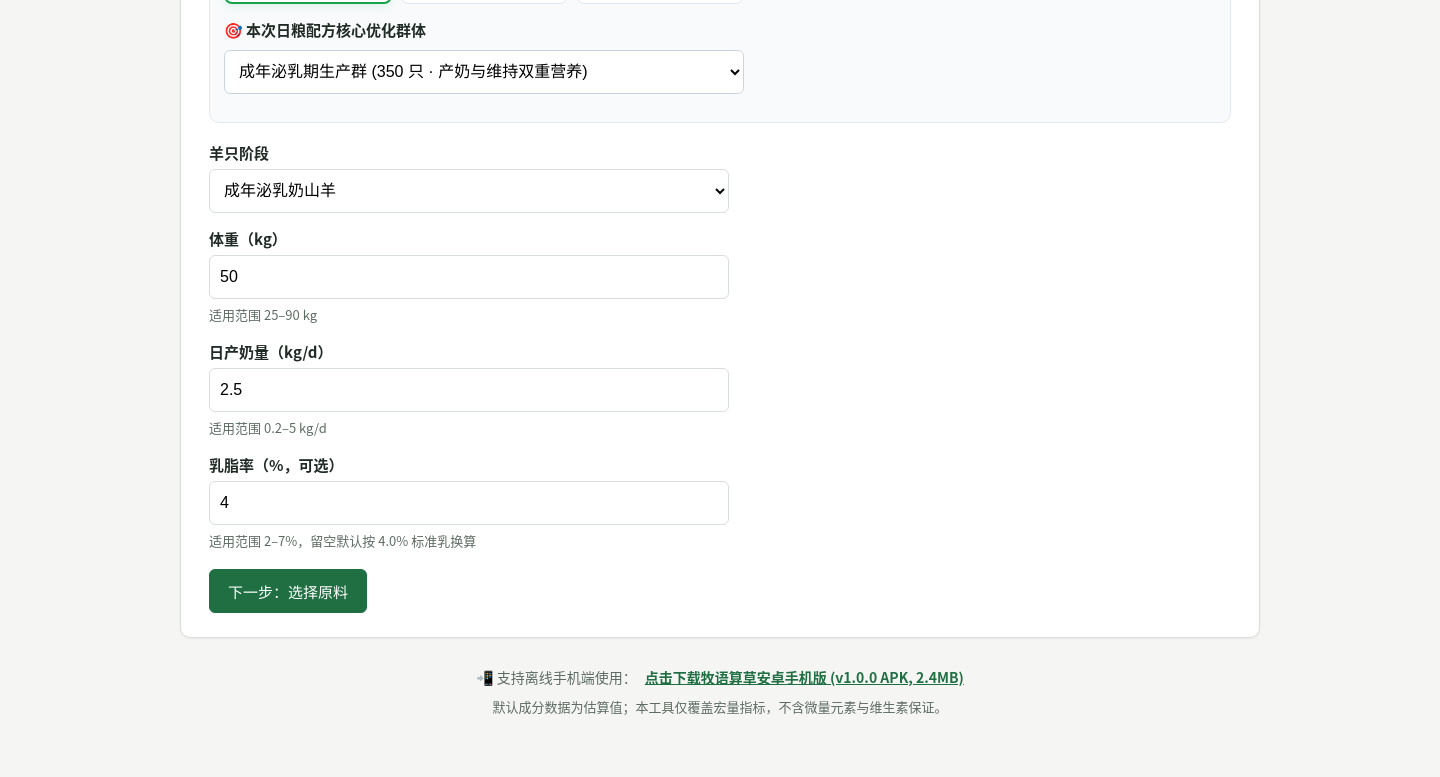
Test: App 三步流程 › 推荐模式中取消的原料不会被后台重新加入
(page scrolled)
Click the button "下一步：选择原料" at (288, 591), box x1=209 y1=569 x2=367 y2=613
(page scrolled)
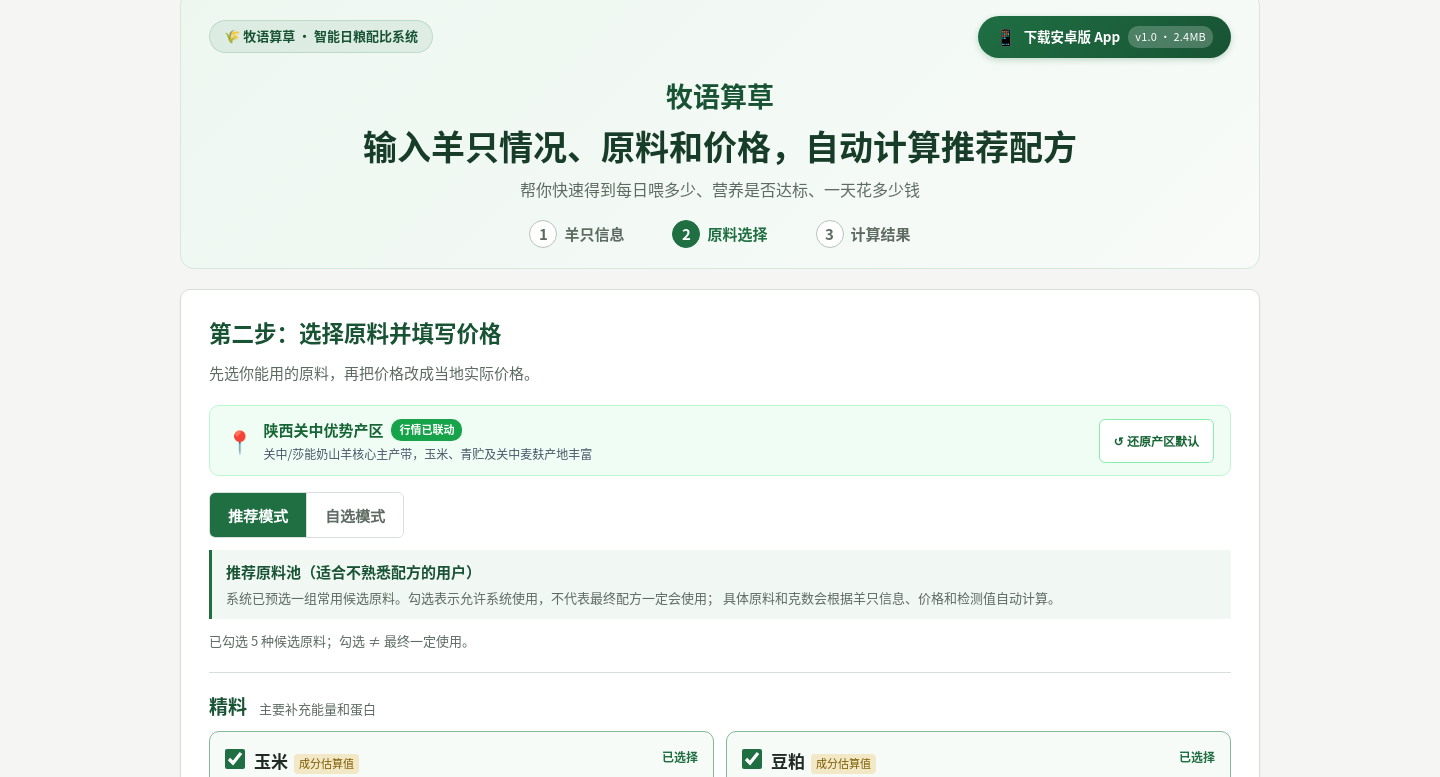
Result: the heading "第二步：选择原料并填写价格" is shown at x1=209 y1=316 x2=502 y2=348
Click the checkbox named "玉米 用于配方" at (235, 759), box x1=225 y1=749 x2=245 y2=769
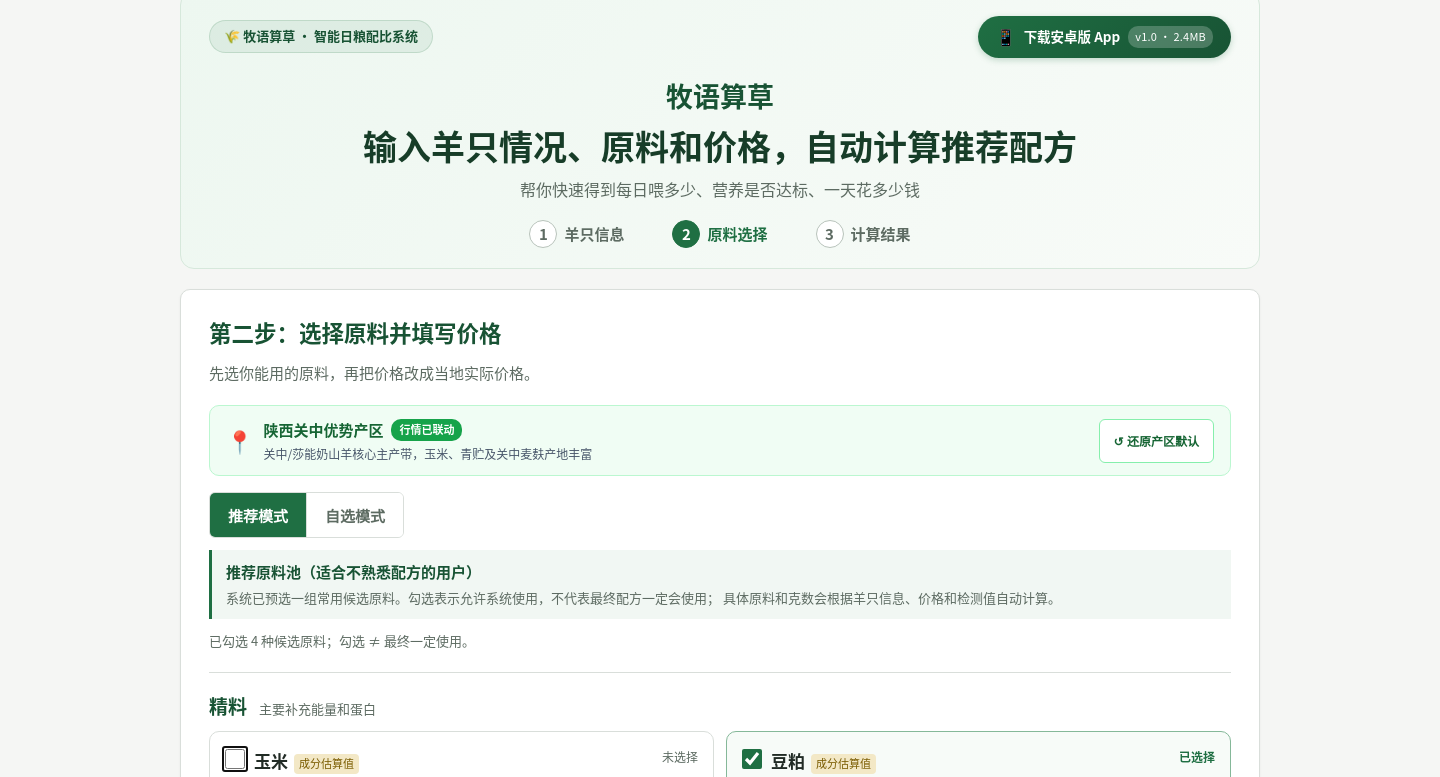
Click the radio button labelled "自选模式" at (354, 515), box x1=306 y1=493 x2=403 y2=537
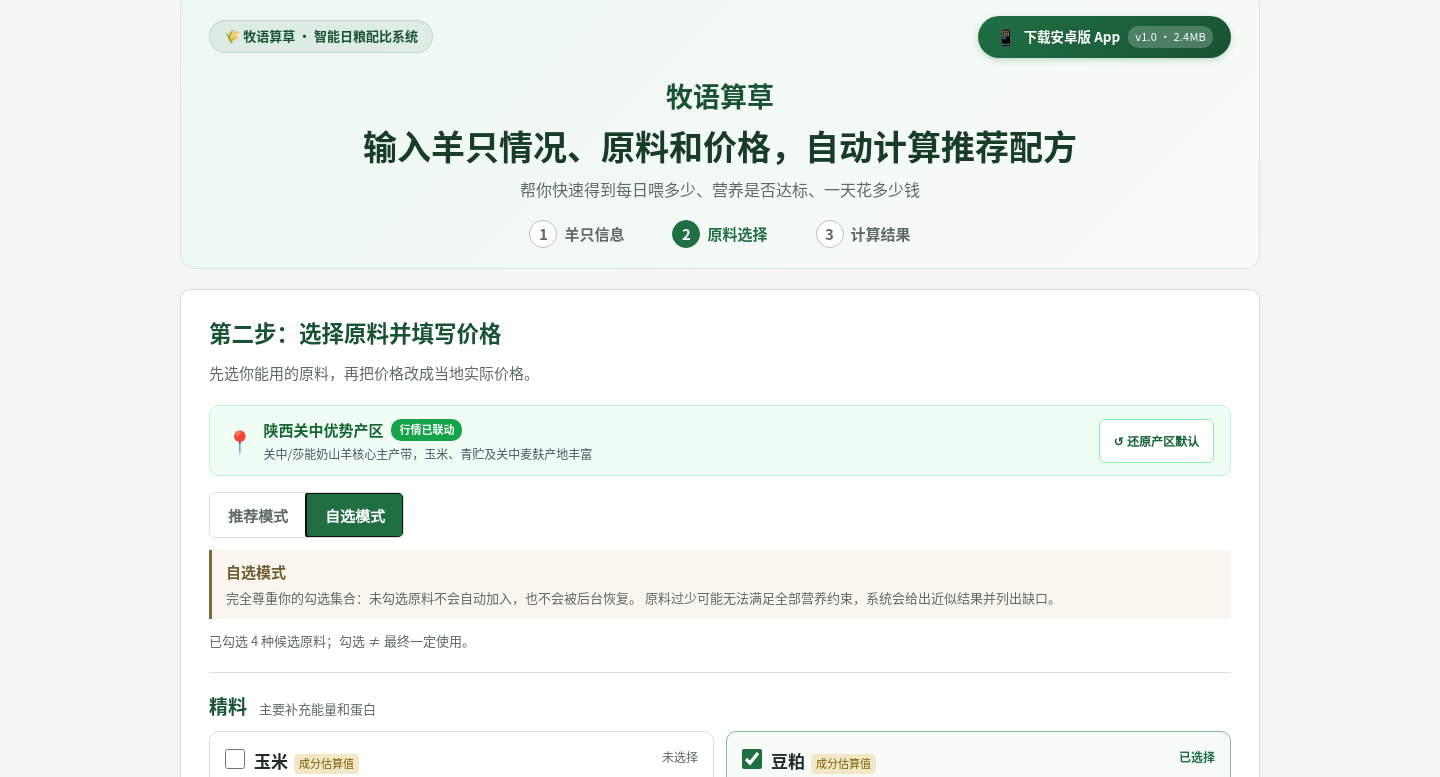
Click the radio button labelled "推荐模式" at (258, 515), box x1=210 y1=493 x2=306 y2=537
(page scrolled)
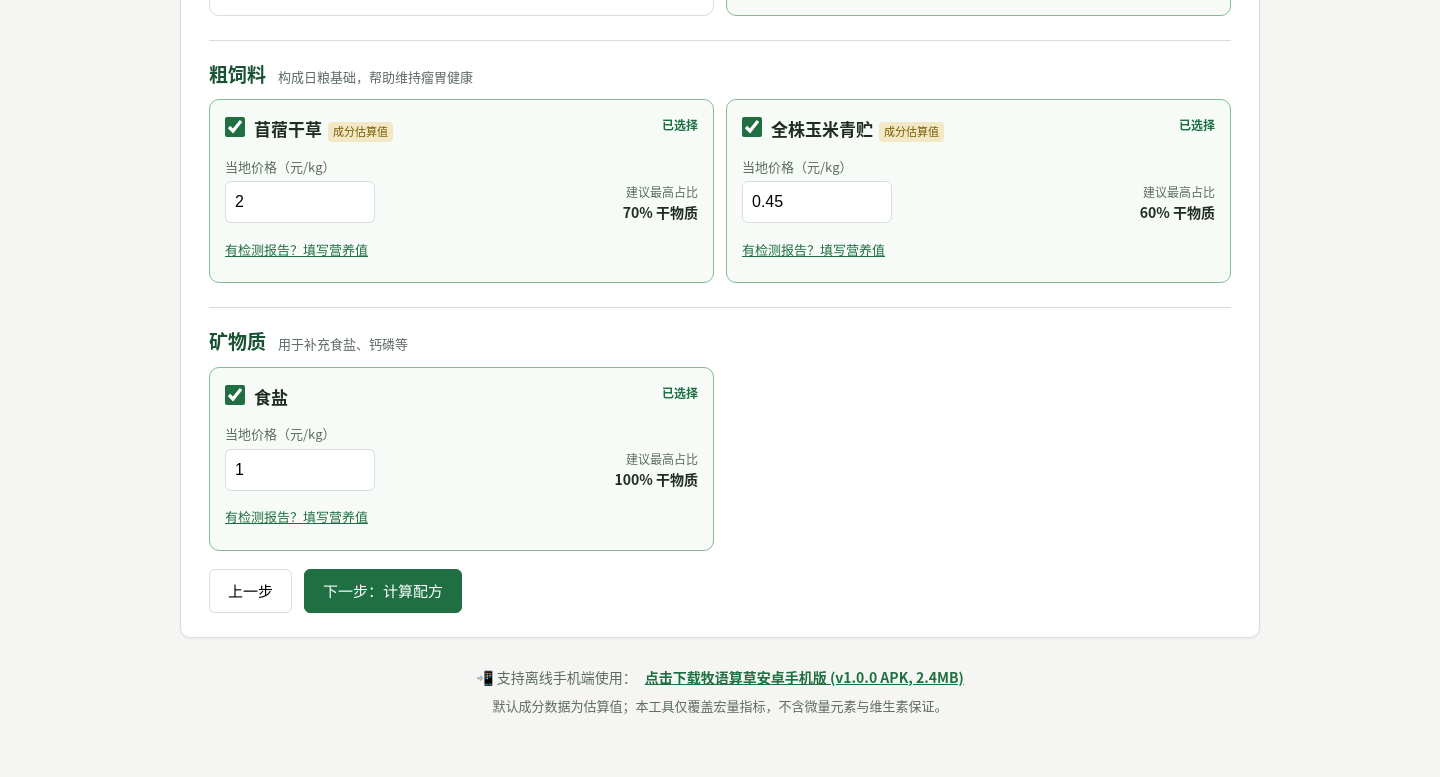
Click the button "下一步：计算配方" at (383, 591), box x1=304 y1=569 x2=462 y2=613
(page scrolled)
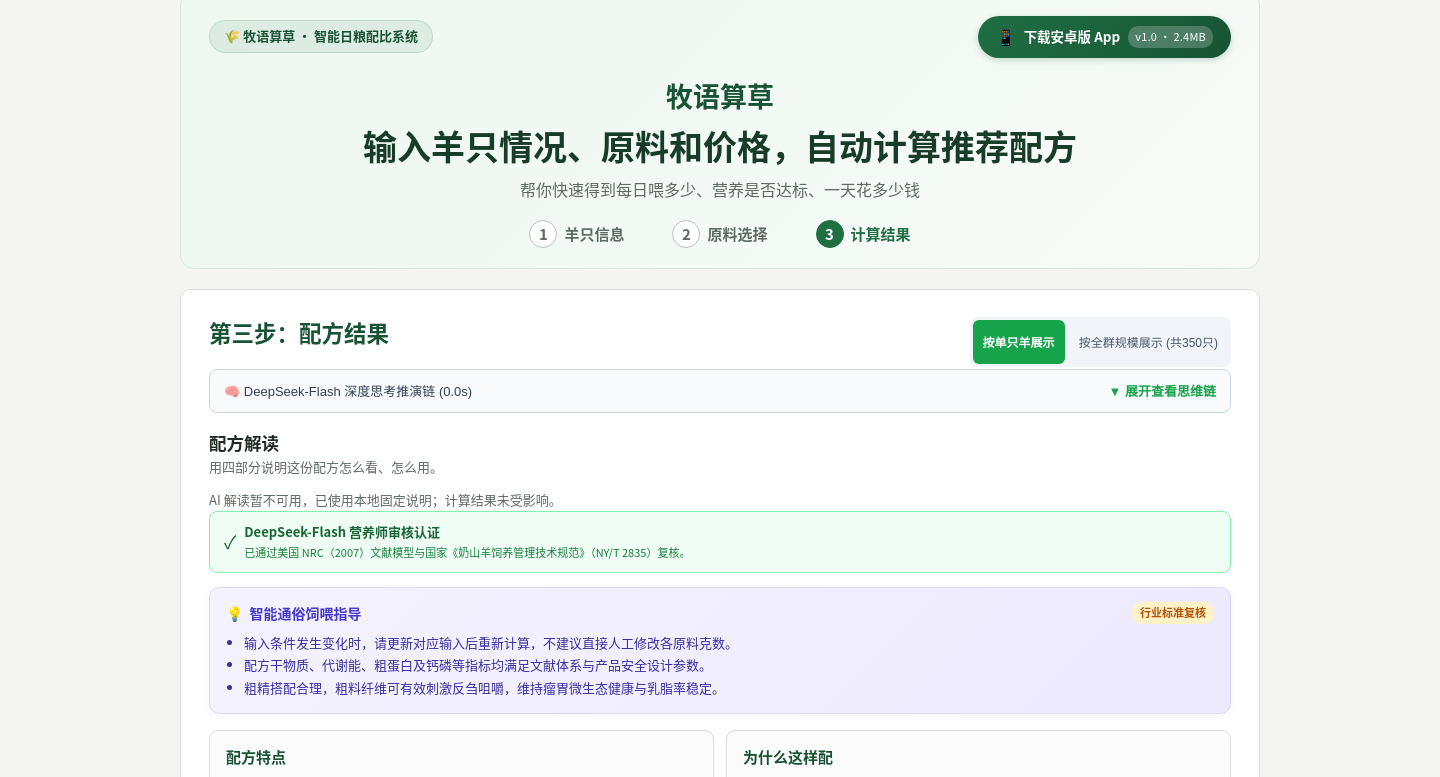
Result: the heading "第三步：配方结果" is shown at x1=209 y1=314 x2=389 y2=350
